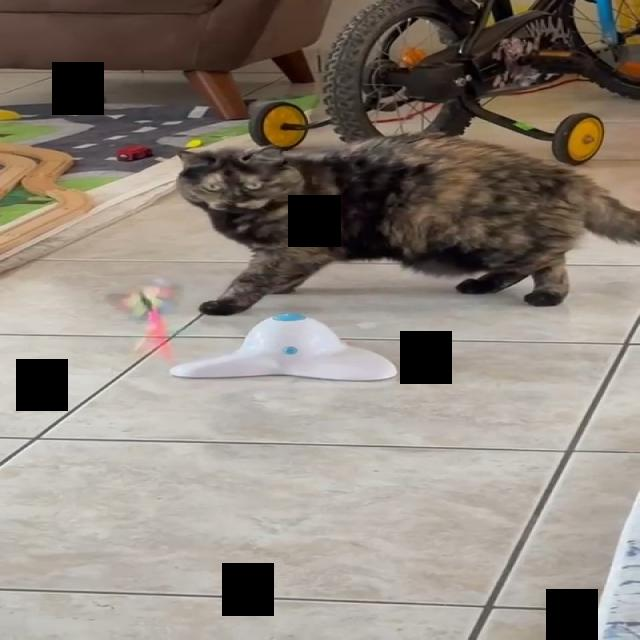authorized: (173, 132, 639, 316)
